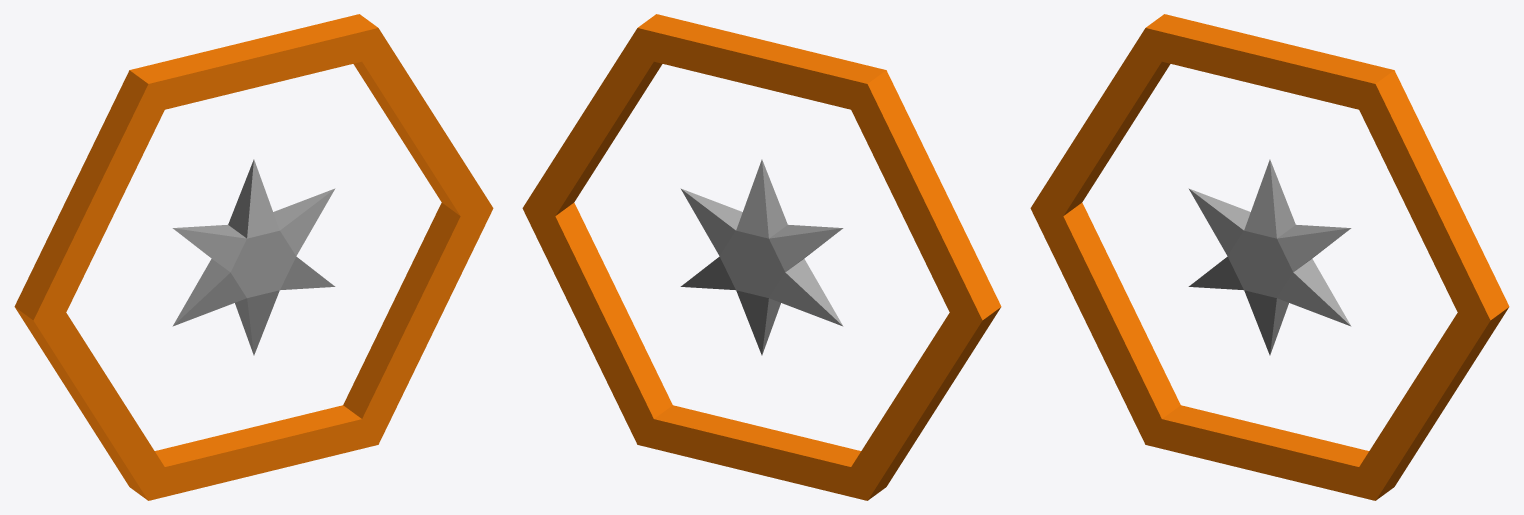
The model's file is powerhack.fbx.
The picture shows the model from 3 angles, left to right: view 1: azimuth 30°, elevation 25°; view 2: azimuth 150°, elevation 25°; view 3: azimuth 330°, elevation 25°; orthographic projection.
Parts seen in each view (by area): view 1: polySurface3; view 2: polySurface3; view 3: polySurface3.
Boxes of the visible parts, x1,y1,x2,y2 form: polySurface3: (14, 14, 493, 500); polySurface3: (522, 14, 1001, 500); polySurface3: (1030, 14, 1509, 500).
Bounding box in the file's own units: 0.7 × 0.6062 × 0.05.
